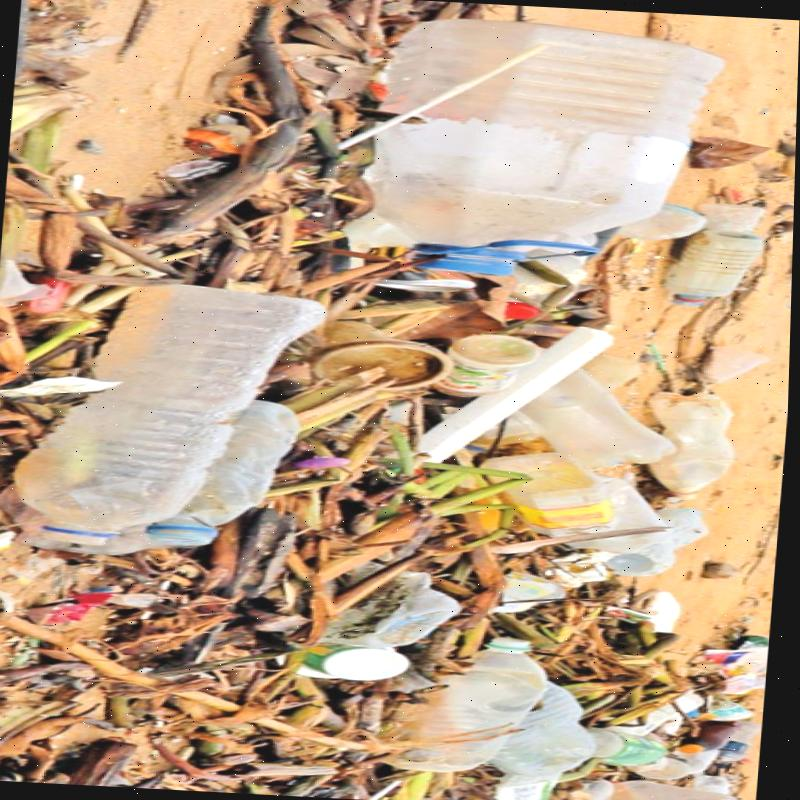botella: (16, 273, 322, 567), (154, 394, 295, 552), (419, 632, 548, 781), (517, 367, 669, 470), (481, 451, 623, 540), (650, 392, 753, 500), (499, 682, 609, 782), (670, 224, 758, 310), (597, 726, 684, 770), (693, 197, 774, 237), (721, 716, 762, 764)
